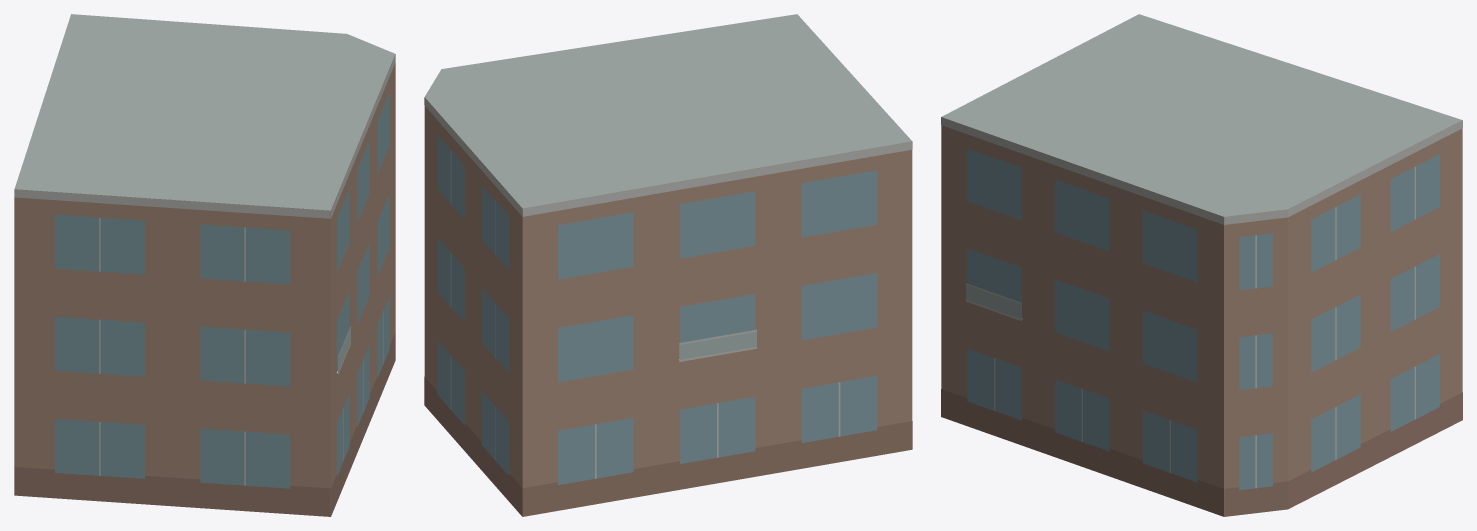
File: survey-upis-32670262.glb
3 views of the same model, side by side, from view 1: azimuth 30°, elevation 25°; view 2: azimuth 150°, elevation 25°; view 3: azimuth 270°, elevation 25° (orthographic). The views are drawn at different scales.
Parts seen in each view (by area): view 1: survey-upis-32670262.tmp; view 2: survey-upis-32670262.tmp; view 3: survey-upis-32670262.tmp.
Part boxes in pixels (x1,y1,x2,y2): survey-upis-32670262.tmp: (14,14,395,516); survey-upis-32670262.tmp: (424,14,912,516); survey-upis-32670262.tmp: (941,14,1462,516).
Bounding box in the file's own units: 13.21 × 9.1 × 14.35.
